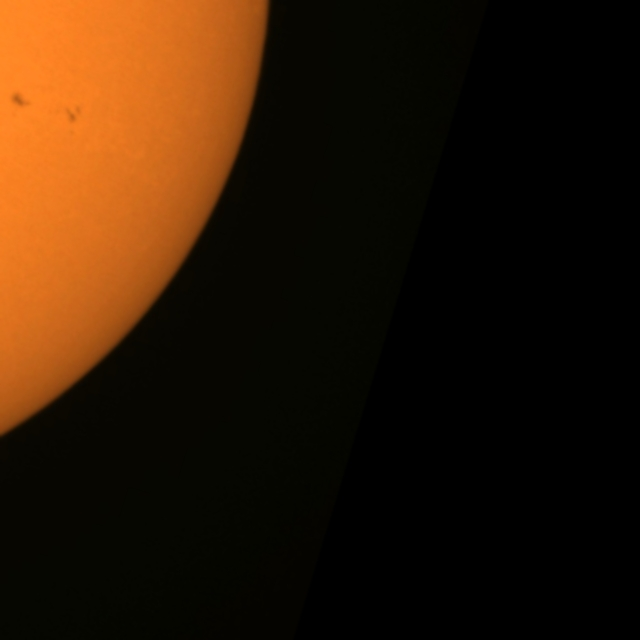sunspot: (63, 102, 84, 130), (8, 89, 34, 111)
